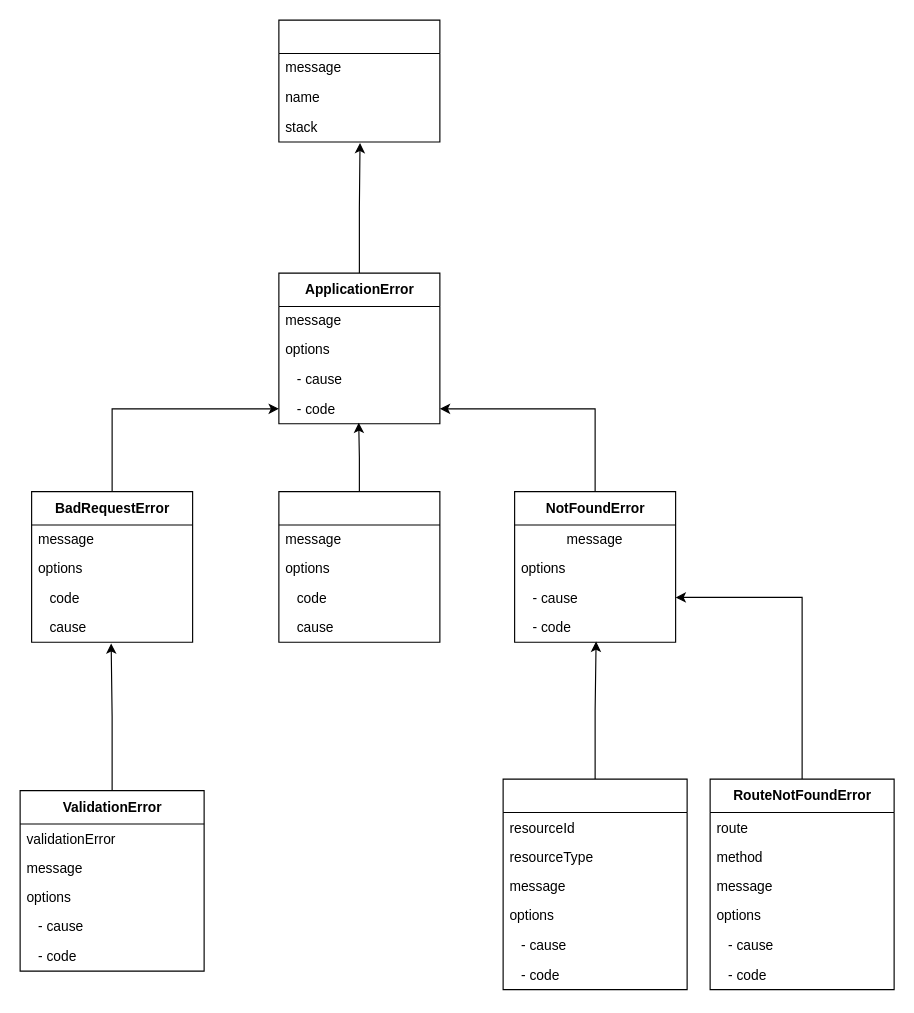
Some shapes in this 914 by 1013 pixel diagram are drawn without their labels. The box of each missing label's shape, as (x1, y1, x2, y2) in pixels:
Error: (278, 19, 440, 142)
ForbiddenError: (278, 490, 440, 642)
ResourceNotFoundError: (502, 778, 687, 990)
